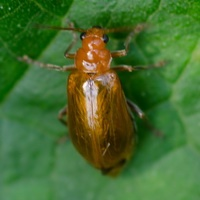insect: (18, 24, 163, 175)
